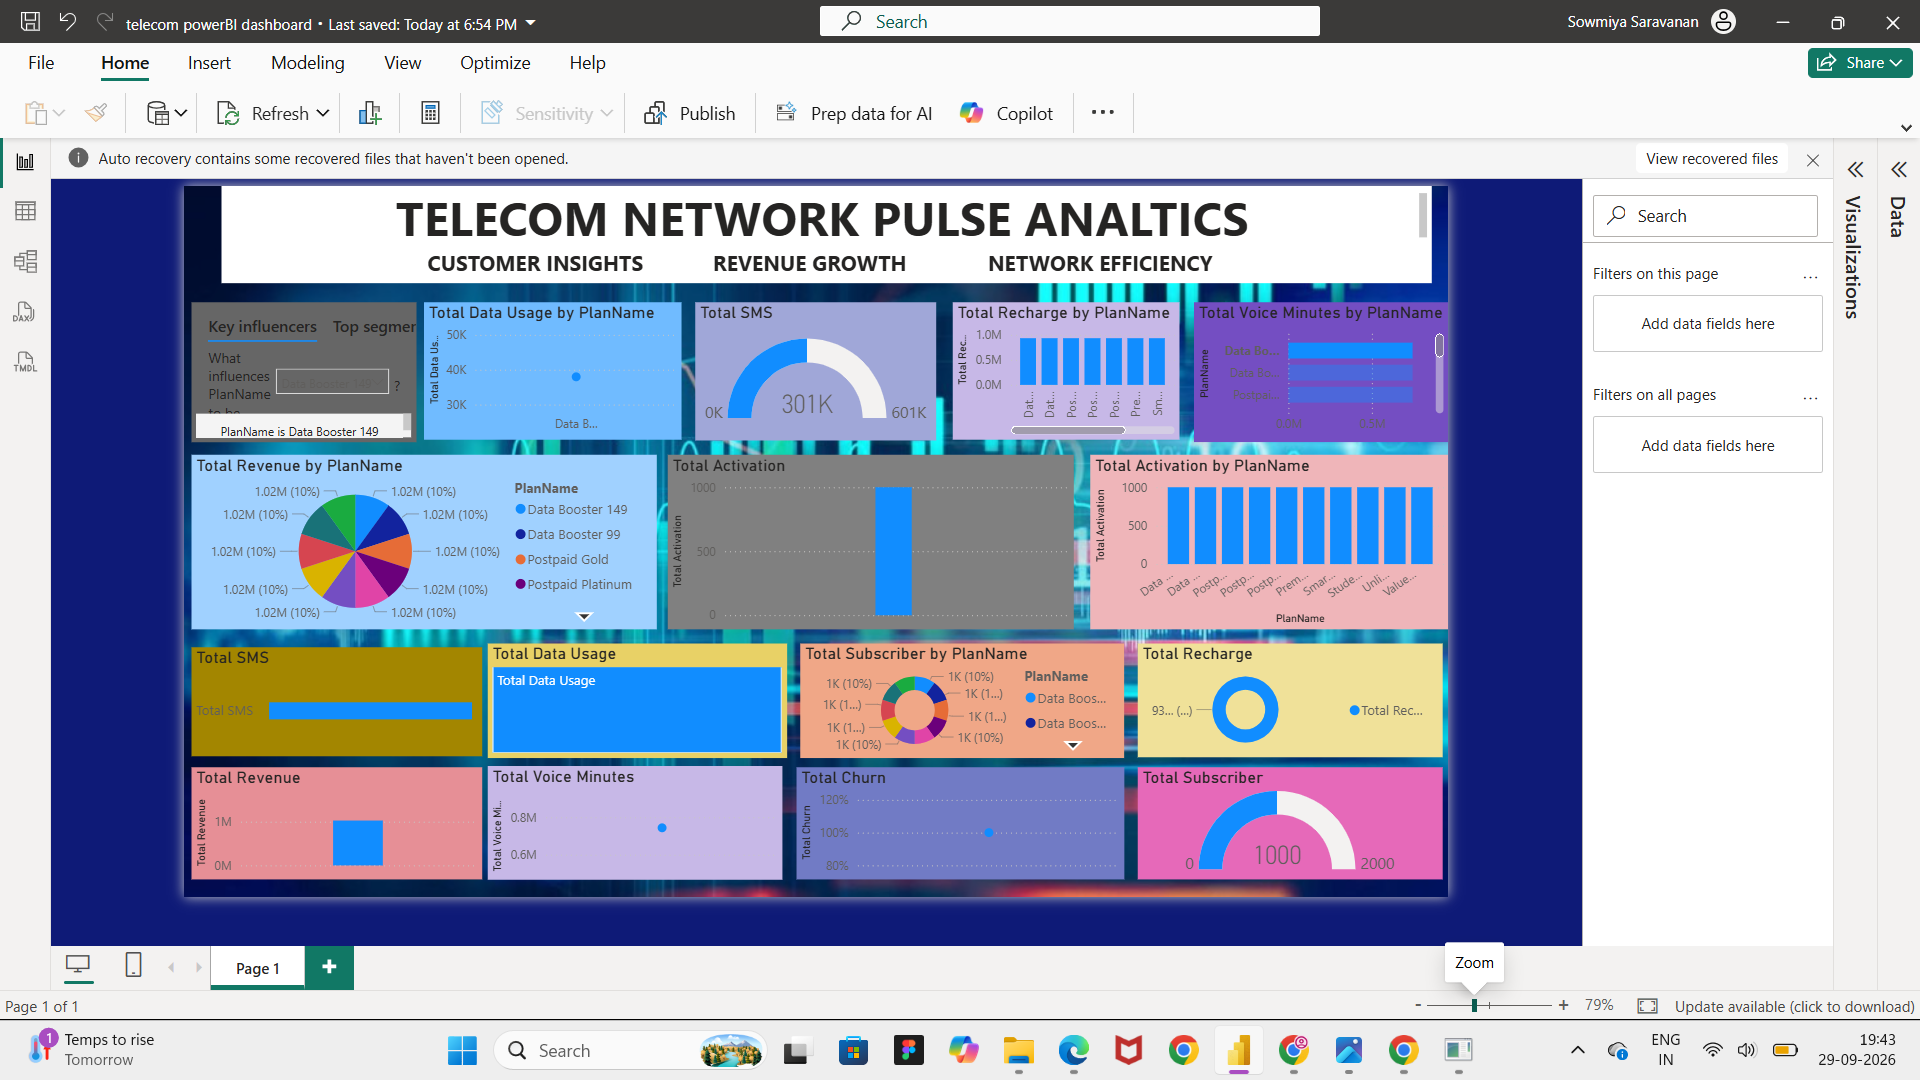

This screenshot's page, from the dashboard's own definition file:
{"tool":"powerbi","page":{"name":"Page 1","canvas":[1280,720],"ordinal":0},"visuals":[{"type":"treemap","fields":{"Values":["measures (2).Total Data Usage"]},"box":[307.1,462.9,302.9,115.7],"z":0},{"type":"clusteredColumnChart","fields":{"Y":["measures (2).Total Revenue"]},"box":[7,589,294.5,113.6],"z":1000},{"type":"funnel","fields":{"Y":["measures (2).Total SMS"]},"box":[7.1,467.1,294.3,110],"z":2000},{"type":"lineChart","fields":{"Y":["measures (2).Total Voice Minutes"]},"box":[307.1,587.6,298.7,115],"z":3000},{"type":"lineClusteredColumnComboChart","fields":{"Category":["Dim_Plan.PlanName"],"Y":["measures (2).Total Activation"]},"box":[917.1,272,363.2,176.7],"z":4000},{"type":"keyDriversVisual","fields":{"Target":["Dim_Plan.PlanName"],"ExplainBy":["measures (2).Total Churn"]},"box":[7,117.8,227.2,141.6],"z":5000},{"type":"areaChart","fields":{"Category":["Dim_Plan.PlanName"],"Y":["measures (2).Total Data Usage"]},"box":[242.6,117.8,260.8,138.8],"z":6000},{"type":"clusteredColumnChart","fields":{"Y":["measures (2).Total Recharge"],"Category":["Dim_Plan.PlanName"]},"box":[778.3,117.8,230,138.8],"z":7000},{"type":"pieChart","fields":{"Category":["Dim_Plan.PlanName"],"Y":["measures (2).Total Revenue"]},"box":[7,272,471.2,176.7],"z":8000},{"type":"gauge","fields":{"Y":["measures (2).Total SMS"]},"box":[517.4,117.8,244,140.2],"z":9000},{"type":"donutChart","fields":{"Category":["Dim_Plan.PlanName"],"Y":["measures (2).Total Subscriber"]},"box":[624,462.8,328.1,116.4],"z":10000},{"type":"barChart","fields":{"Category":["Dim_Plan.PlanName"],"Y":["measures (2).Total Voice Minutes"]},"box":[1022.3,117.8,258,141.6],"z":11000},{"type":"ribbonChart","fields":{"Y":["measures (2).Total Activation"]},"box":[489.4,272,410.9,176.7],"z":12000},{"type":"hundredPercentStackedAreaChart","fields":{"Y":["measures (2).Total Churn"]},"box":[619.8,589,332.3,113.6],"z":13000},{"type":"gauge","fields":{"Y":["measures (2).Total Subscriber"]},"box":[966.2,589,308.5,113.6],"z":14000},{"type":"donutChart","fields":{"Y":["measures (2).Total Recharge"]},"box":[966.2,462.8,308.5,115],"z":15000},{"type":"textbox","box":[25.2,0,1229.8,98.2],"z":19000}]}

Visuals, with their boxes on the page's 1280x720 design canvas (x1, y1, x2, y2). These are canvas units, not pixel positions in the 1920x1080 screenshot, which may show the page scaled, cropped or inside an application window:
treemap - measures (2).Total Data Usage: (307,463,610,579)
clusteredColumnChart - measures (2).Total Revenue: (7,589,302,703)
funnel - measures (2).Total SMS: (7,467,301,577)
lineChart - measures (2).Total Voice Minutes: (307,588,606,703)
lineClusteredColumnComboChart - Dim_Plan.PlanName x measures (2).Total Activation: (917,272,1280,449)
keyDriversVisual - Dim_Plan.PlanName x measures (2).Total Churn: (7,118,234,259)
areaChart - Dim_Plan.PlanName x measures (2).Total Data Usage: (243,118,503,257)
clusteredColumnChart - measures (2).Total Recharge x Dim_Plan.PlanName: (778,118,1008,257)
pieChart - Dim_Plan.PlanName x measures (2).Total Revenue: (7,272,478,449)
gauge - measures (2).Total SMS: (517,118,761,258)
donutChart - Dim_Plan.PlanName x measures (2).Total Subscriber: (624,463,952,579)
barChart - Dim_Plan.PlanName x measures (2).Total Voice Minutes: (1022,118,1280,259)
ribbonChart - measures (2).Total Activation: (489,272,900,449)
hundredPercentStackedAreaChart - measures (2).Total Churn: (620,589,952,703)
gauge - measures (2).Total Subscriber: (966,589,1275,703)
donutChart - measures (2).Total Recharge: (966,463,1275,578)
textbox: (25,0,1255,98)
